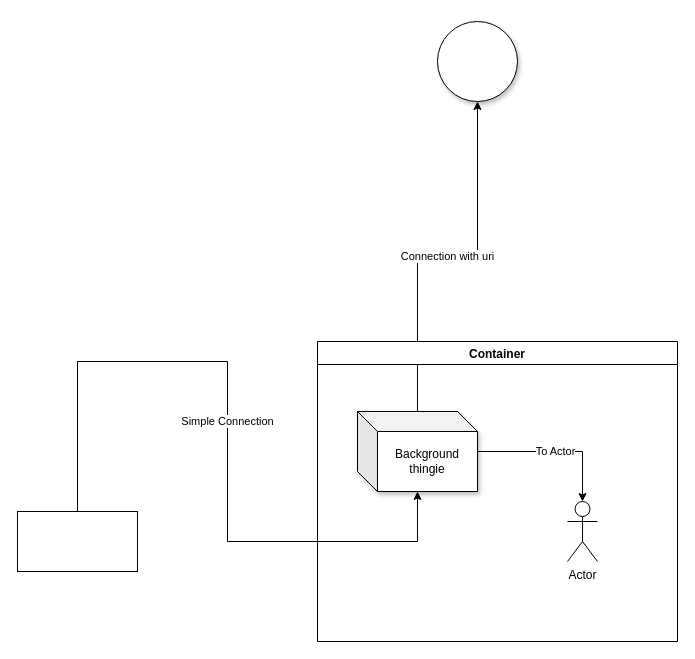
The diagram is 695 pixels wide and 659 high, and some of its shapes have lost their labels. The centre of each missing label's shape, as x and y in pixels:
"Formatted Text" goes at point (478, 62).
"Simple Shape" goes at point (77, 541).
